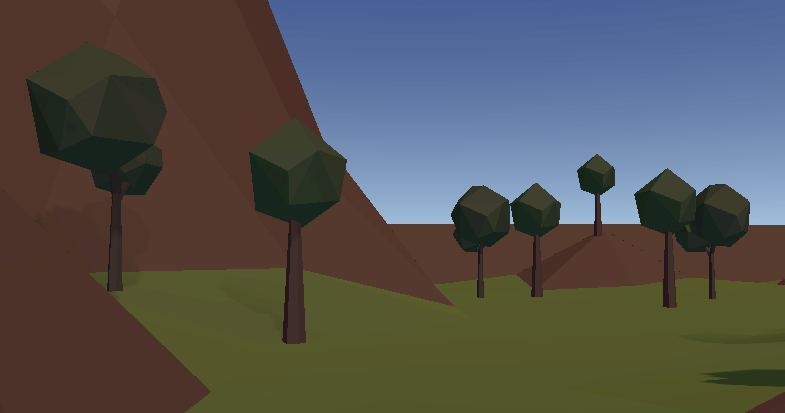tree: (24, 39, 164, 295), (243, 117, 350, 346), (633, 167, 697, 314), (674, 182, 750, 299), (444, 182, 510, 301), (510, 183, 567, 300), (573, 152, 625, 238)
